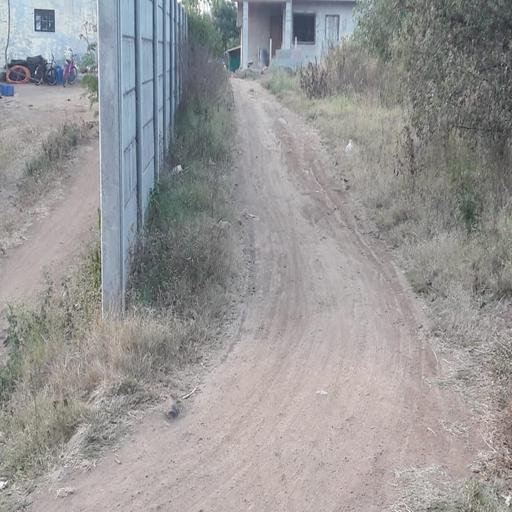vehicle_track: (16, 83, 423, 512), (0, 147, 101, 321)
